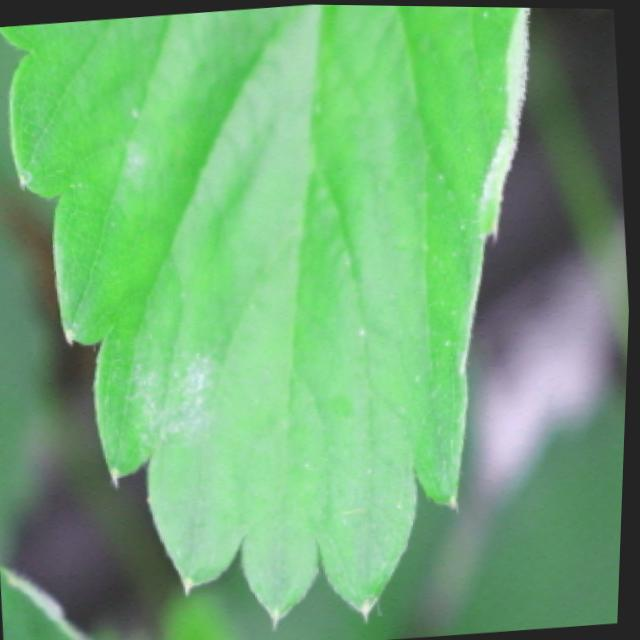Powdery Mildew Leaf: (0, 4, 533, 632)
